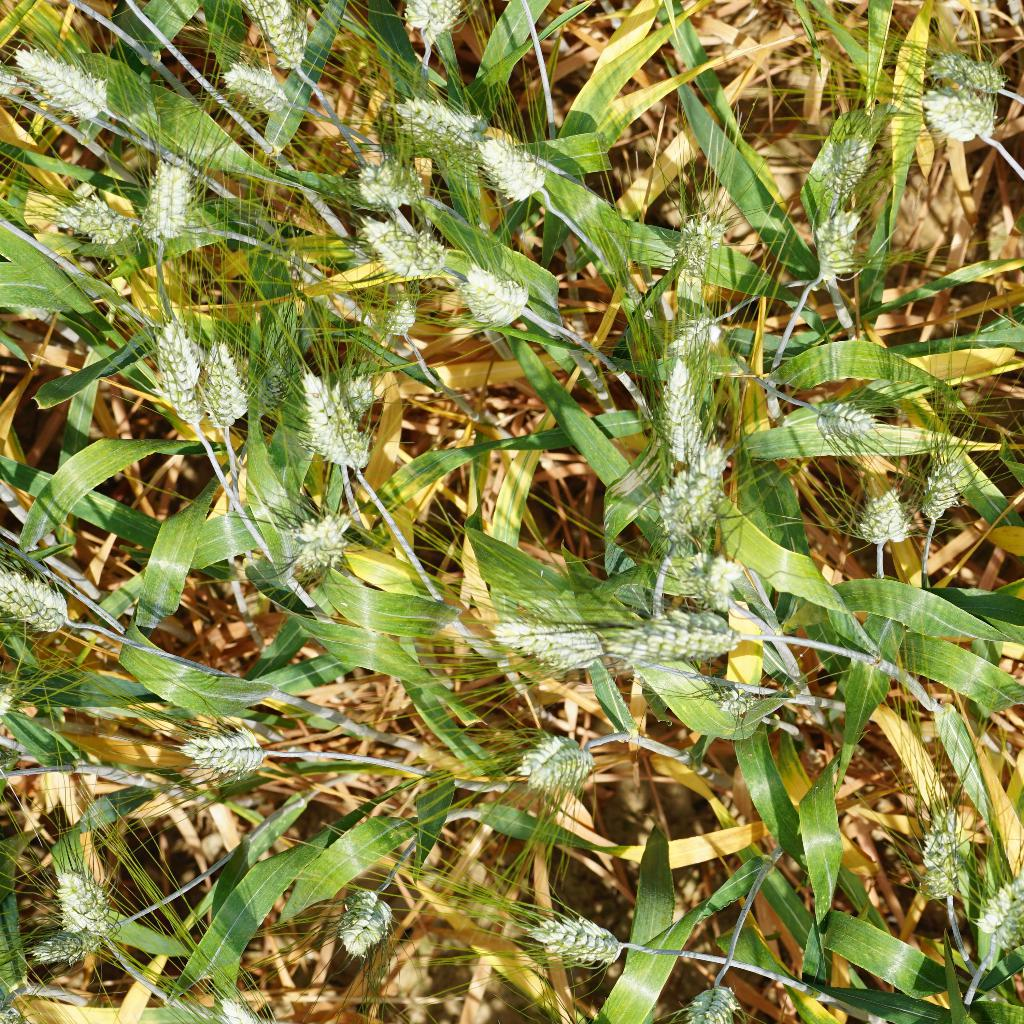0-0: (595, 605, 746, 673), (482, 601, 609, 677), (139, 305, 213, 434), (8, 42, 122, 125), (520, 897, 632, 978), (294, 370, 380, 475), (507, 717, 606, 808), (217, 0, 324, 81), (392, 88, 512, 159), (142, 145, 210, 262), (347, 209, 451, 281), (162, 721, 276, 786), (328, 881, 403, 978), (452, 254, 544, 333), (58, 182, 154, 253), (0, 567, 82, 649), (814, 112, 888, 201), (477, 137, 556, 220), (646, 464, 728, 539), (922, 44, 1024, 104), (666, 544, 757, 610), (910, 81, 997, 148), (202, 332, 257, 437), (656, 370, 716, 462), (854, 481, 919, 565), (284, 516, 362, 585), (916, 796, 965, 905), (804, 205, 866, 291), (915, 443, 974, 529), (209, 62, 306, 114), (44, 867, 118, 934), (972, 858, 1024, 952), (23, 920, 112, 974), (198, 980, 307, 1024), (810, 382, 879, 451), (346, 154, 434, 208), (694, 666, 770, 725), (665, 209, 729, 279), (672, 965, 740, 1024), (393, 0, 470, 52), (660, 301, 725, 359), (362, 296, 426, 340), (332, 352, 374, 419)
